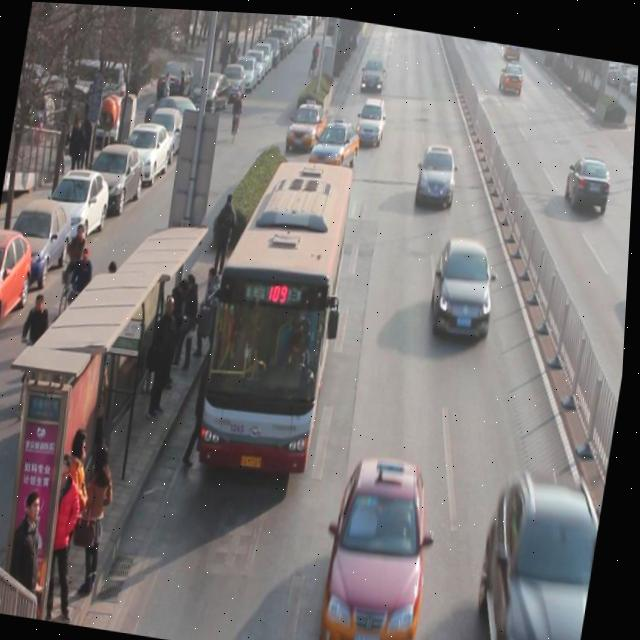car: (472, 458, 610, 640), (323, 446, 448, 640), (429, 229, 504, 337), (414, 133, 462, 206), (309, 111, 365, 170), (563, 146, 615, 206), (285, 94, 332, 151), (357, 90, 390, 142), (498, 51, 527, 91), (360, 50, 388, 90)
van: (194, 145, 355, 473)
